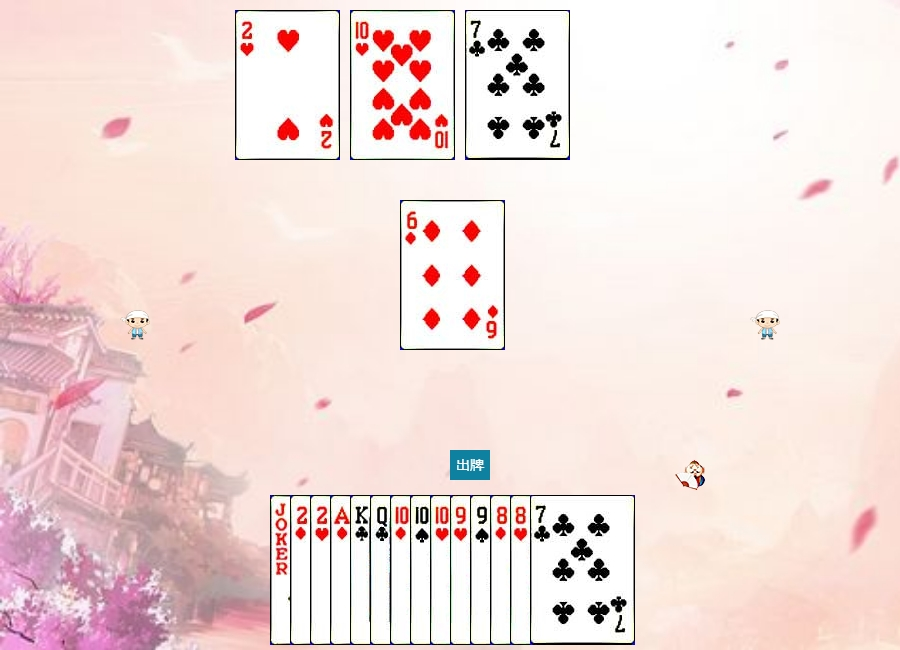10~1: (390, 495, 495, 645)
10~3: (350, 10, 455, 160), (430, 495, 535, 645)
10~4: (410, 495, 515, 645)
12~2: (370, 495, 475, 645)
13~2: (350, 495, 455, 645)
14~1: (330, 495, 435, 645)
15~1: (290, 495, 395, 645)
15~3: (235, 10, 340, 160), (310, 495, 415, 645)
18~4: (270, 495, 375, 645)
6~1: (400, 200, 505, 350)
7~2: (465, 10, 570, 160), (530, 495, 635, 645)
8~1: (490, 495, 595, 645)
8~3: (510, 495, 615, 645)
9~3: (450, 495, 555, 645)
9~4: (470, 495, 575, 645)
